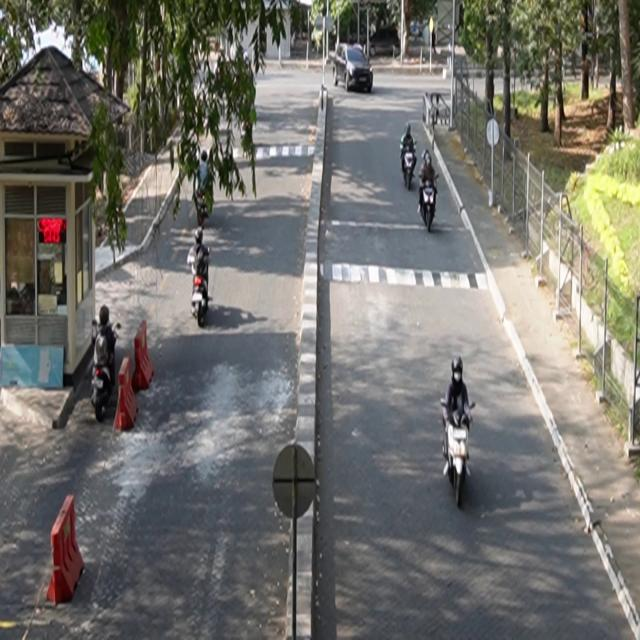car: (334, 43, 375, 94)
